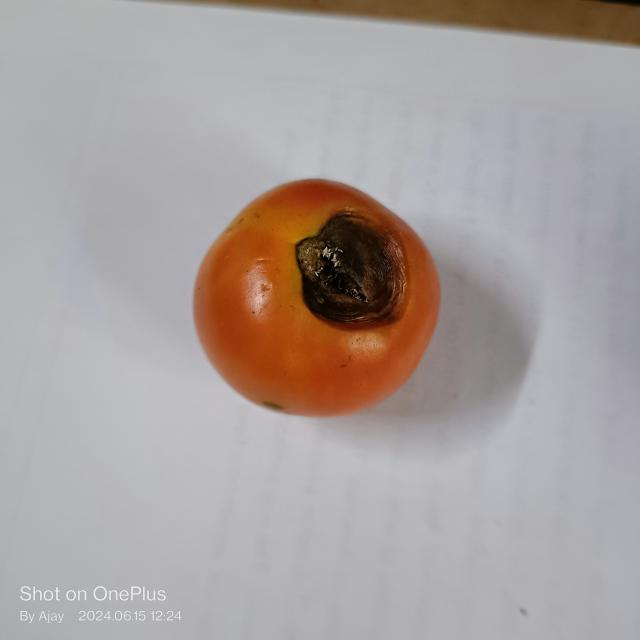Anthrocnose: (292, 212, 407, 331)
